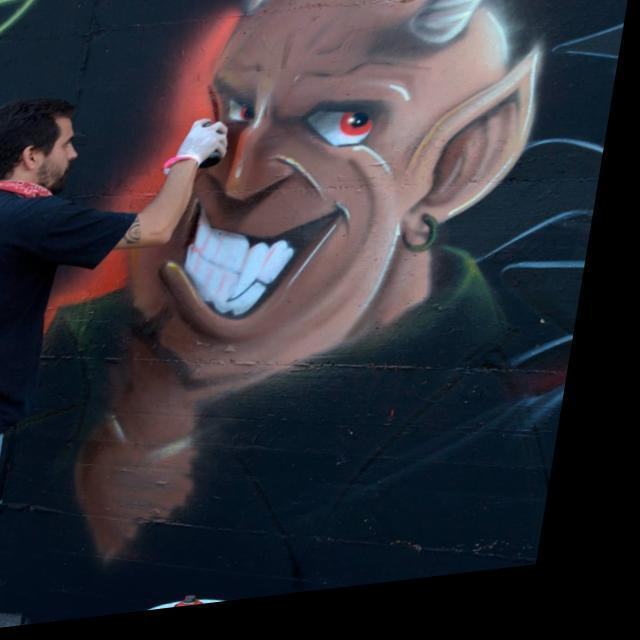-: (28, 0, 570, 562)
